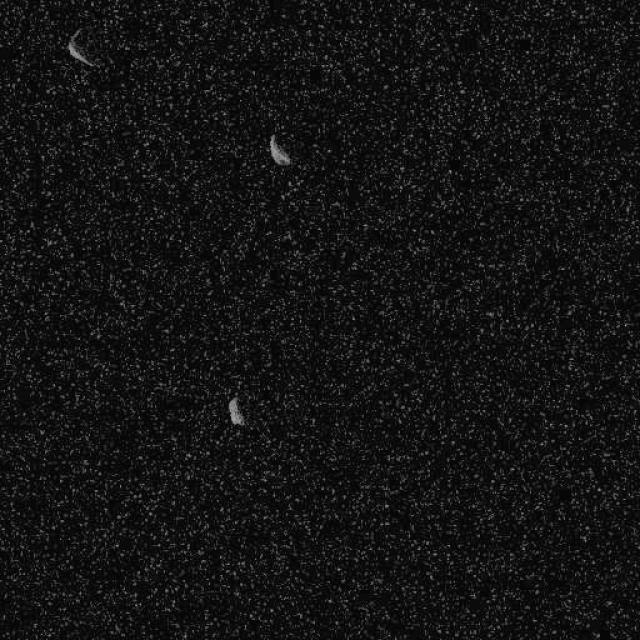D2: (66, 27, 96, 68), (268, 132, 292, 166), (226, 395, 245, 426)
